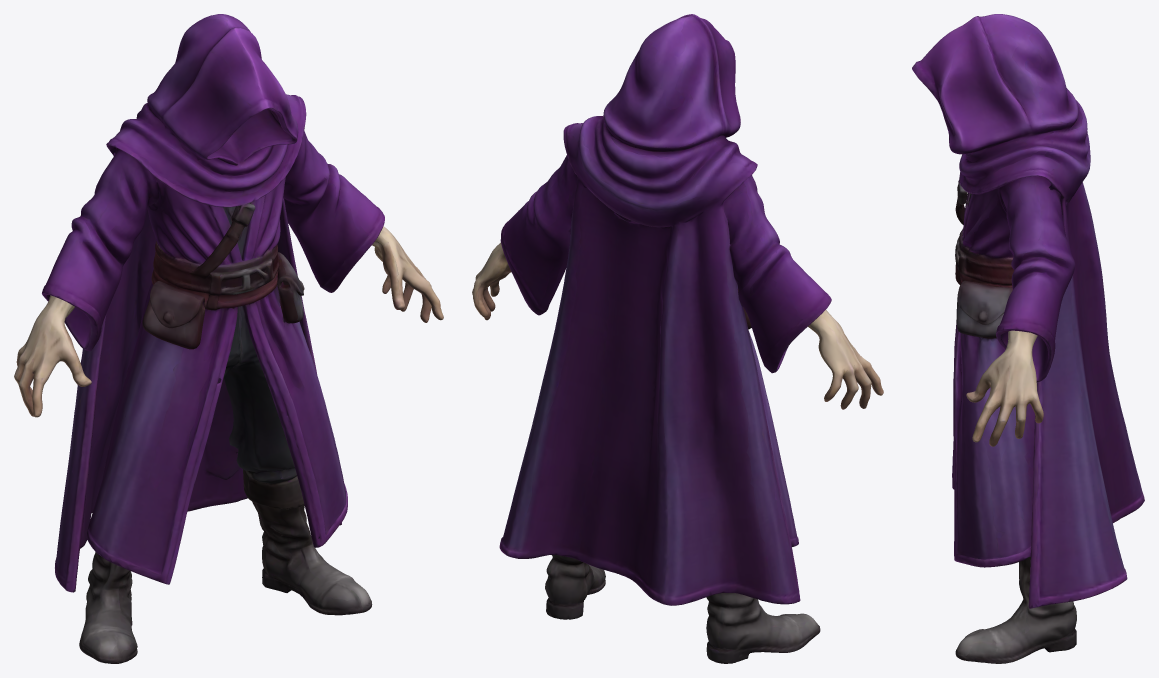
File: model_trellis.glb
3 renders of one model, left to right at view 1: azimuth 30°, elevation 25°; view 2: azimuth 150°, elevation 25°; view 3: azimuth 270°, elevation 25°, orthographic. The views are drawn at different scales.
Visible parts, largest first — view 1: world; view 2: world; view 3: world.
Boxes of the visible parts, bbox=[...] form: world: bbox=[14, 14, 443, 663]; world: bbox=[472, 14, 883, 663]; world: bbox=[912, 14, 1144, 663].
Size of the model in its own units: 0.701 by 1 by 0.3587.
Materials: 1 (1 with a texture image).
